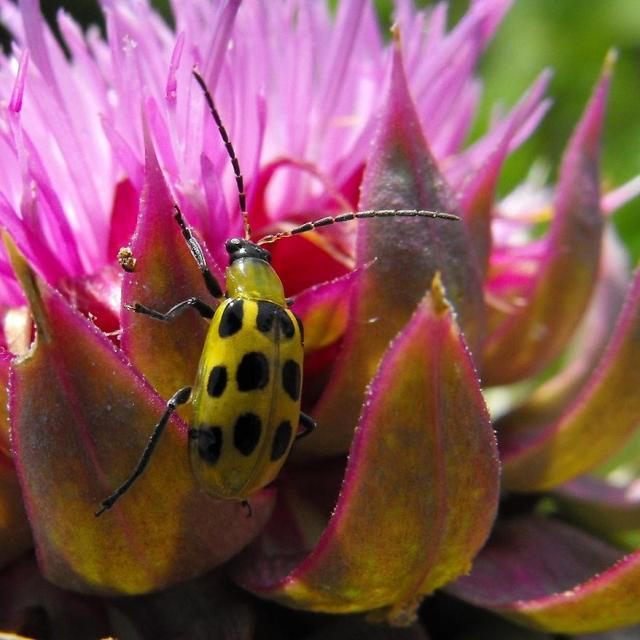cucumber_beetle: (110, 56, 454, 530)
